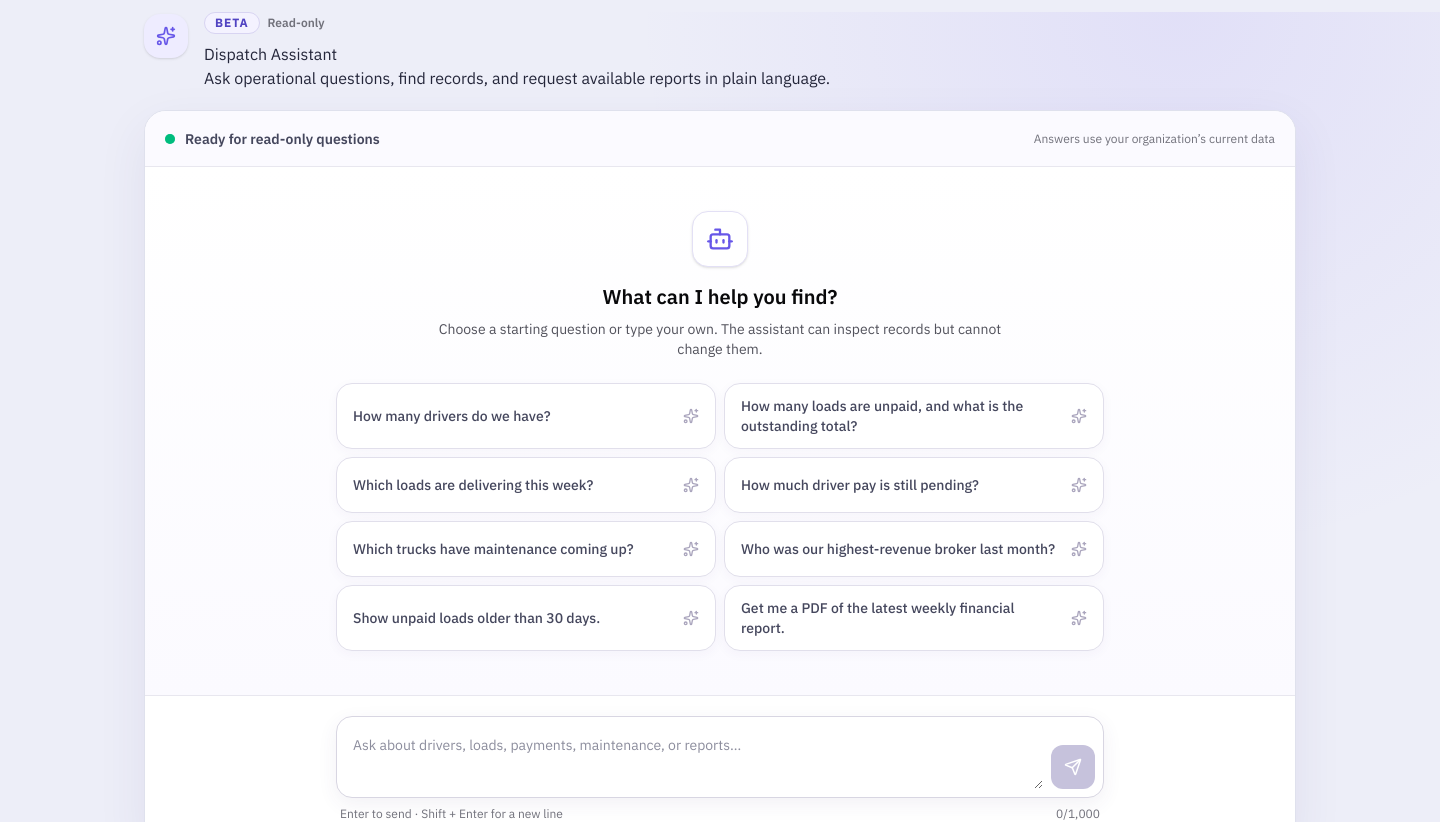
DispatchAssistant › sends a starter question and renders returned report links
Click the button "Get me a PDF of the latest weekly financial report.": (914, 618) [724,585,1104,651]
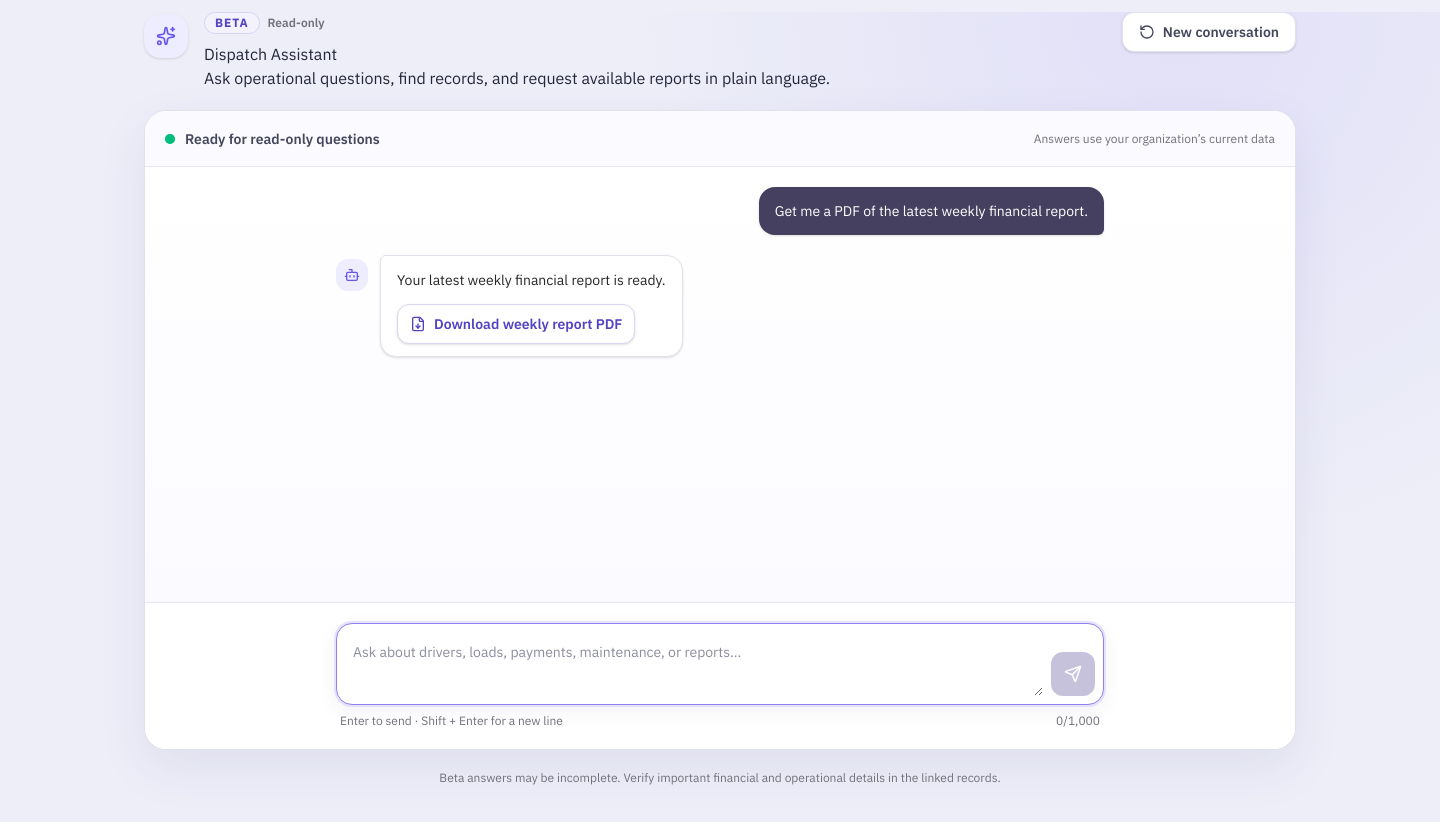
Check: the text "Your latest weekly financial report is ready." is shown, box [397,271,666,289]
